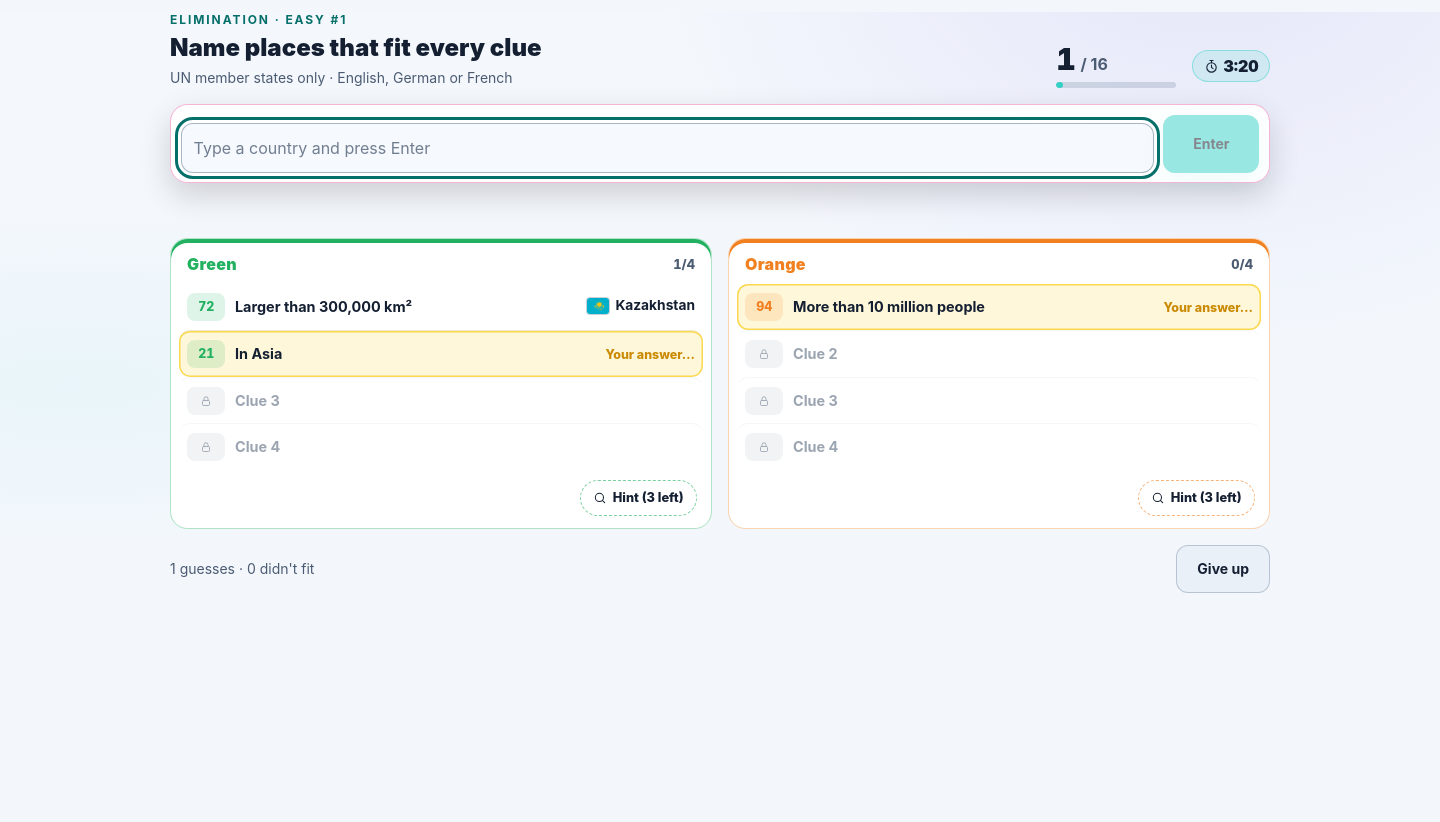
Test case: asks before giving up; Esc keeps playing and returns to the input
Click the button "Give up": [1223, 569] box [1176,545,1270,593]
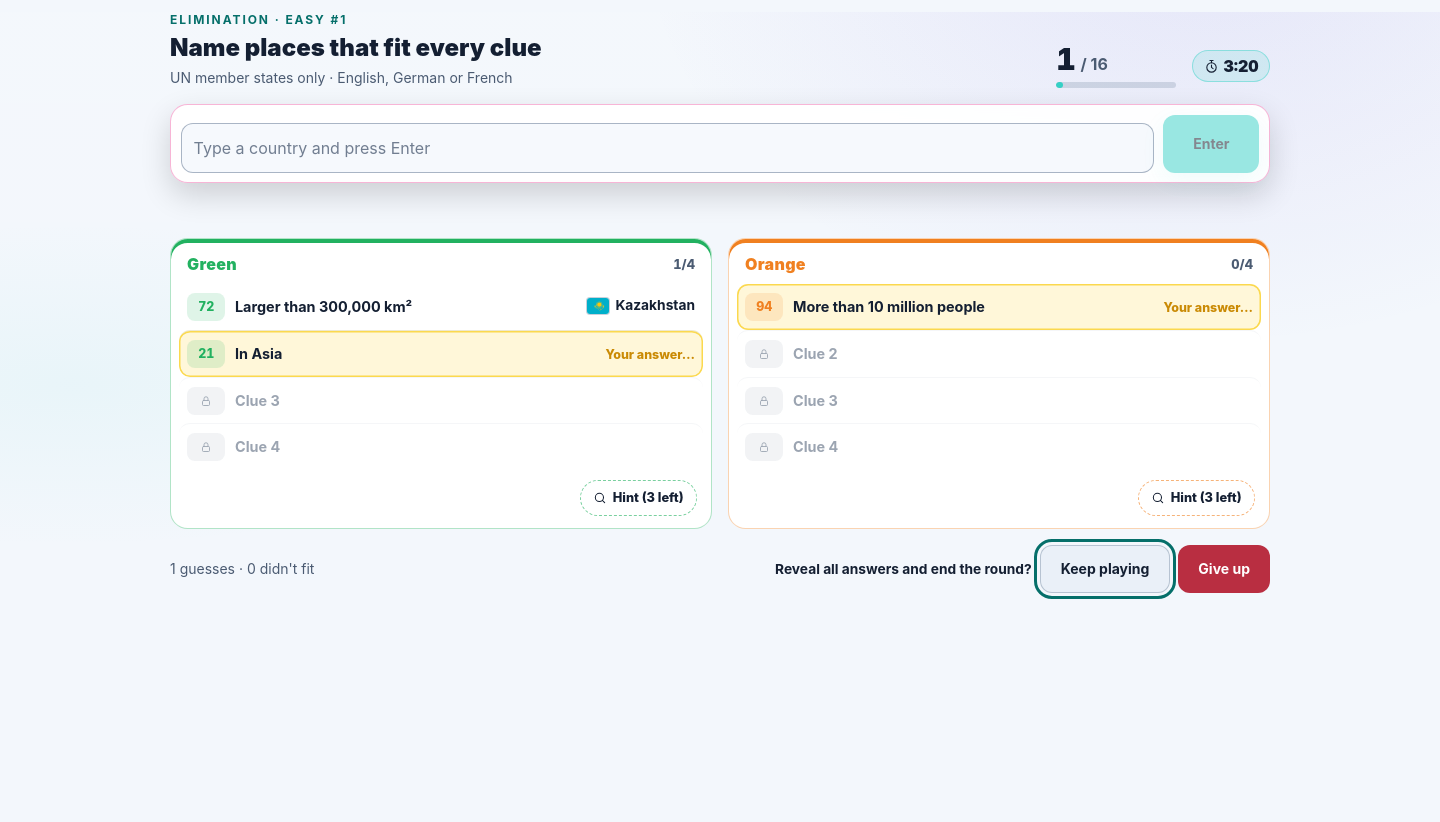
Press Escape in the button "Keep playing", box [1040,545,1170,593]
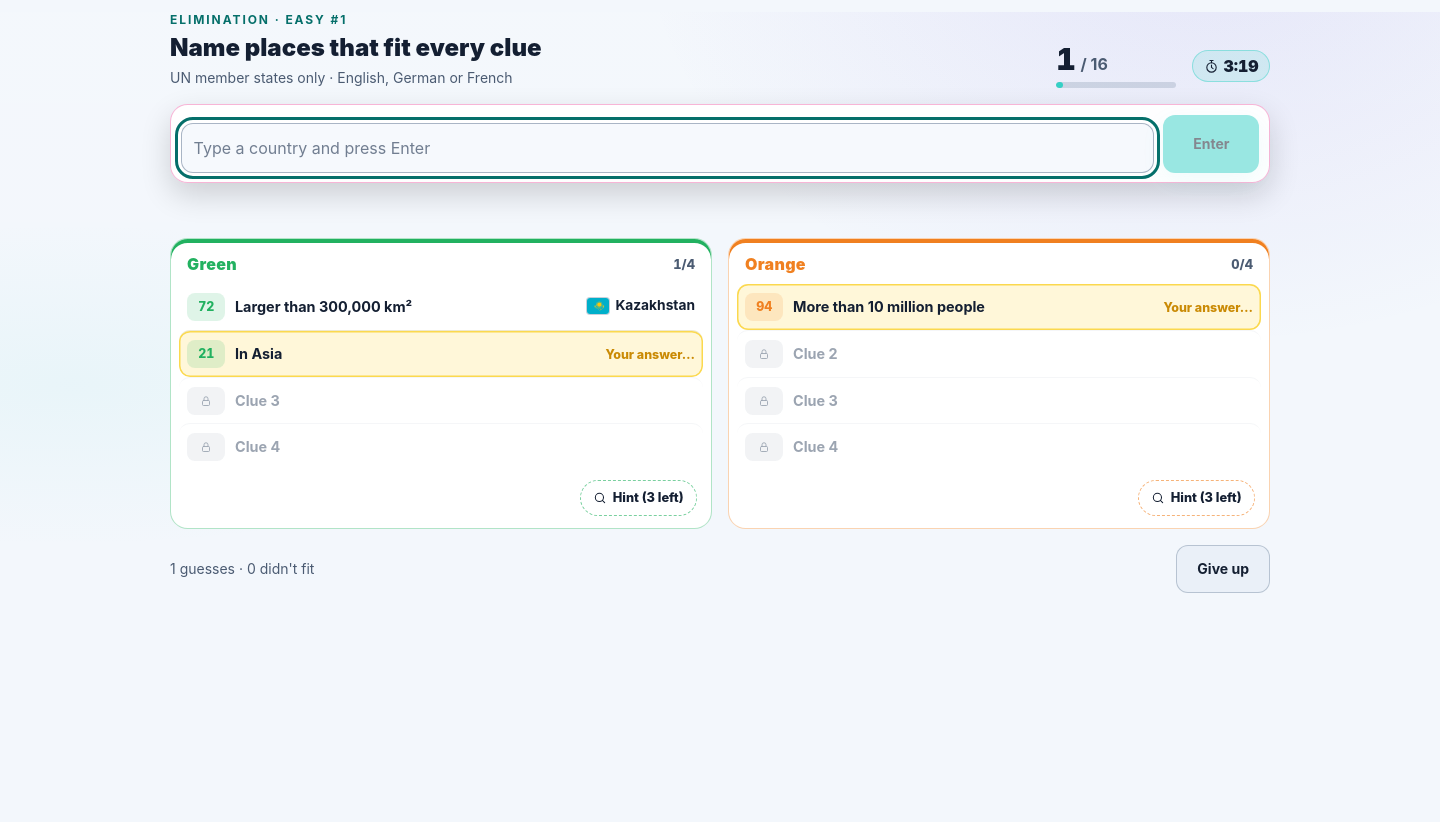
Now the button "Keep playing" is gone
